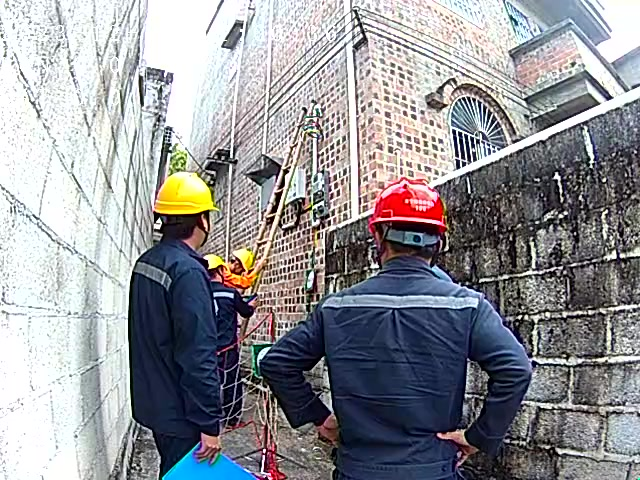halt: (366, 184, 448, 262), (152, 171, 219, 242), (230, 246, 256, 277)
hand: (435, 427, 479, 458), (193, 433, 224, 465), (317, 412, 341, 446)
inear: (193, 211, 214, 241)
person: (258, 173, 537, 479), (129, 171, 235, 478)
upsuit: (261, 259, 534, 480), (129, 242, 240, 427)
